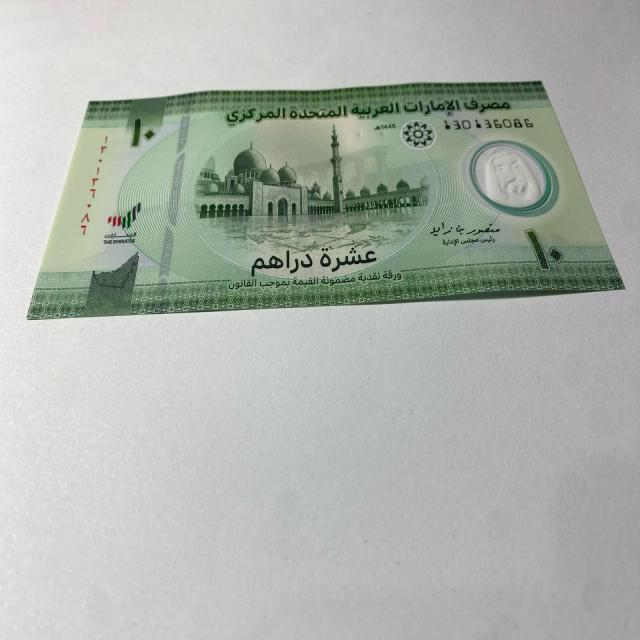10_AED: (28, 73, 631, 321)
